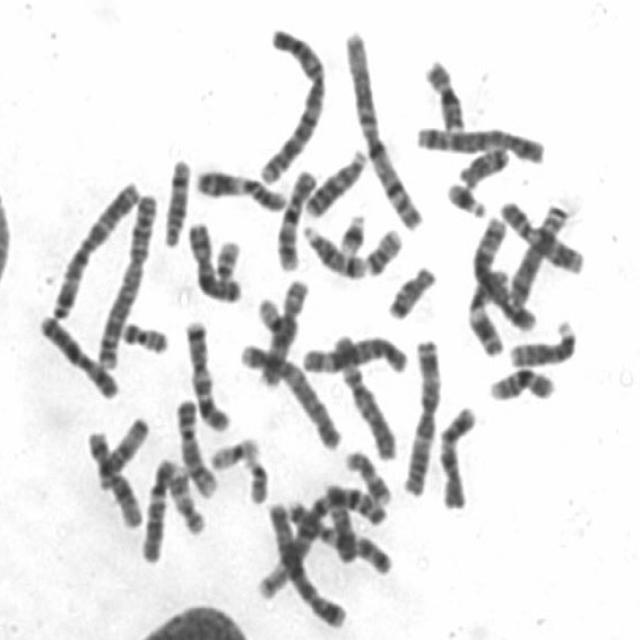A1: (342, 24, 424, 232), (253, 482, 392, 602)
A2: (254, 23, 328, 189), (92, 188, 158, 370)
A3: (48, 178, 142, 321), (398, 334, 442, 498)
B4: (236, 338, 343, 452), (266, 496, 347, 630)
B5: (469, 212, 537, 332), (413, 122, 546, 165)
C10: (272, 165, 316, 272), (436, 401, 478, 512)
C11: (192, 165, 287, 213), (464, 264, 510, 359)
C12: (89, 433, 144, 531), (133, 455, 182, 562)
C6: (338, 345, 399, 462), (298, 332, 410, 376)
C7: (286, 503, 394, 577), (182, 319, 226, 435)
C8: (504, 200, 574, 305), (255, 276, 310, 388)
C9: (497, 202, 589, 276), (173, 395, 218, 499)
D13: (302, 146, 367, 220), (506, 316, 576, 368)
D14: (300, 222, 365, 279), (160, 155, 191, 248)
D15: (94, 413, 151, 487), (322, 476, 358, 560)
E16: (420, 55, 467, 135), (492, 366, 561, 409)
E17: (342, 446, 392, 507), (166, 467, 206, 536)
E18: (383, 262, 438, 321), (455, 144, 511, 188)
F19: (255, 294, 298, 338), (207, 434, 261, 469)
F20: (363, 226, 404, 277), (118, 317, 170, 355)
G21: (442, 178, 487, 220), (337, 209, 367, 257)
G22: (241, 453, 270, 505), (211, 236, 242, 282)
X: (36, 312, 120, 402), (184, 219, 242, 304)
